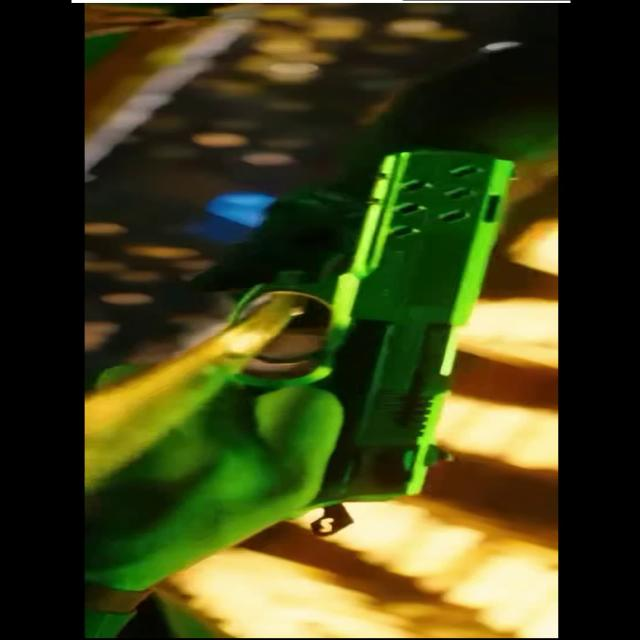weapons: (152, 138, 500, 548)
